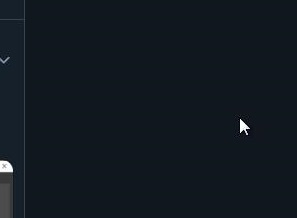cursor: (238, 116, 251, 136)
